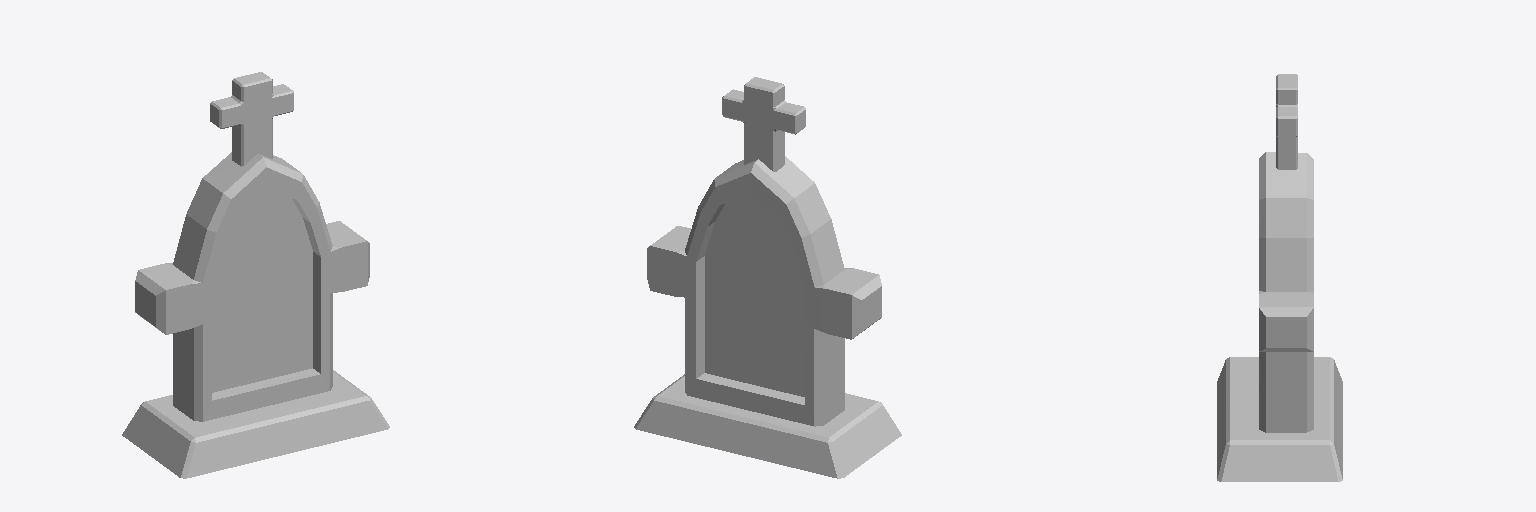
Rendered from tumba_low.obj.
The picture shows the model from 3 angles: view 1: azimuth 30°, elevation 25°; view 2: azimuth 150°, elevation 25°; view 3: azimuth 270°, elevation 25°; orthographic projection.
Visible parts, largest first — view 1: textureEditorIsolateSelectSet pCube2, pCube3, pCube4; view 2: textureEditorIsolateSelectSet pCube2, pCube3, pCube4; view 3: textureEditorIsolateSelectSet pCube2, pCube3, pCube4.
Part boxes in pixels (x1,y1,x2,y2): textureEditorIsolateSelectSet pCube2: (135, 152, 369, 421); pCube3: (122, 370, 389, 478); pCube4: (210, 72, 293, 166); textureEditorIsolateSelectSet pCube2: (647, 156, 881, 426); pCube3: (634, 374, 901, 478); pCube4: (722, 77, 805, 171); textureEditorIsolateSelectSet pCube2: (1259, 152, 1313, 432); pCube3: (1217, 357, 1342, 481); pCube4: (1276, 74, 1297, 169).
Size of the model in its own units: 32.27 by 50.36 by 16.37.